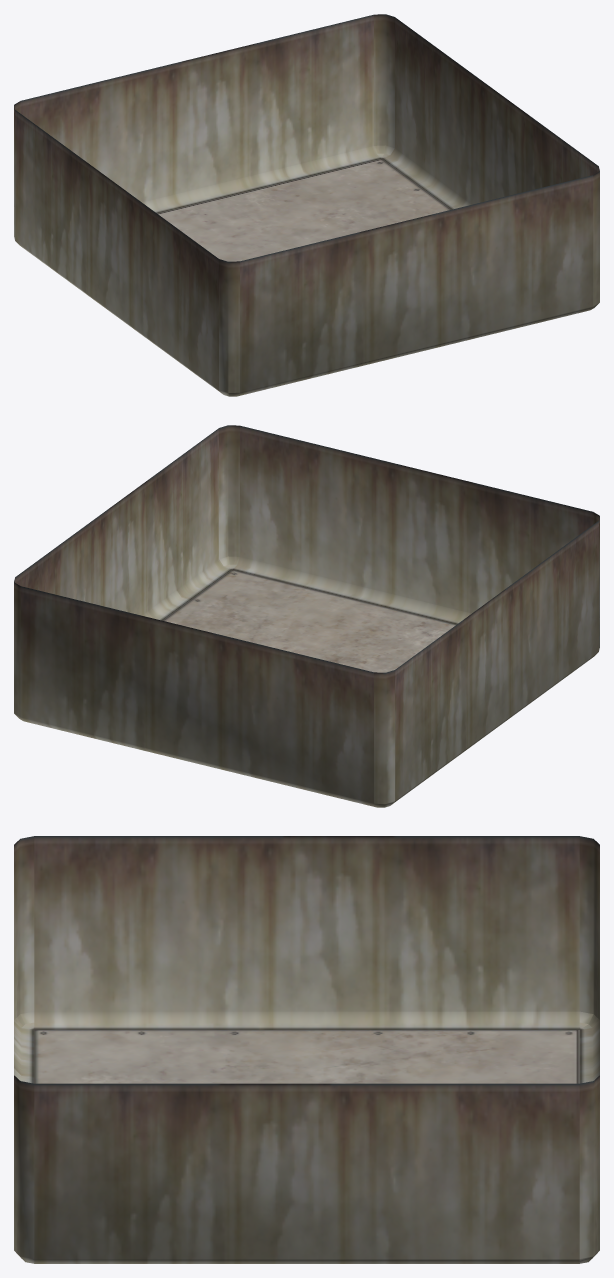
The model's file is lab_ceiling_box_4way_plain.dae.
The picture shows the model from 3 angles, top to bottom: view 1: azimuth 30°, elevation 25°; view 2: azimuth 150°, elevation 25°; view 3: azimuth 270°, elevation 25°; orthographic projection. The views are drawn at different scales.
Parts seen in each view (by area): view 1: lab_ceiling_box_4way_plain; view 2: lab_ceiling_box_4way_plain; view 3: lab_ceiling_box_4way_plain.
Boxes of the visible parts, <box> form: lab_ceiling_box_4way_plain: <box>14,14,599,396</box>; lab_ceiling_box_4way_plain: <box>14,425,599,807</box>; lab_ceiling_box_4way_plain: <box>14,836,599,1263</box>.
Bounding box in the file's own units: 2.15 × 0.75 × 2.15.
